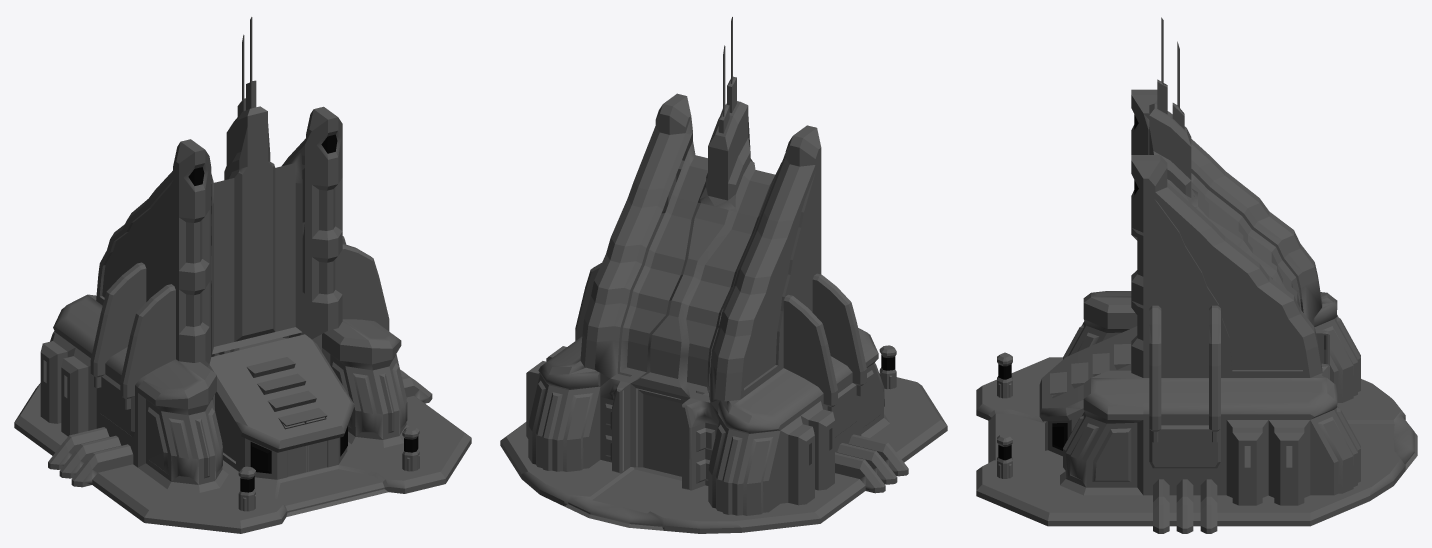
Rendered from InformationCenter.dae.
The picture shows the model from 3 angles, left to right: view 1: azimuth 30°, elevation 25°; view 2: azimuth 150°, elevation 25°; view 3: azimuth 270°, elevation 25°; orthographic projection. The views are drawn at different scales.
Visible parts, largest first — view 1: InformationCenter; view 2: InformationCenter; view 3: InformationCenter.
Boxes of the visible parts, bbox=[...] form: InformationCenter: bbox=[14, 17, 471, 533]; InformationCenter: bbox=[500, 17, 947, 533]; InformationCenter: bbox=[976, 17, 1417, 533].
Size of the model in its own units: 51.67 by 54.63 by 59.06.
